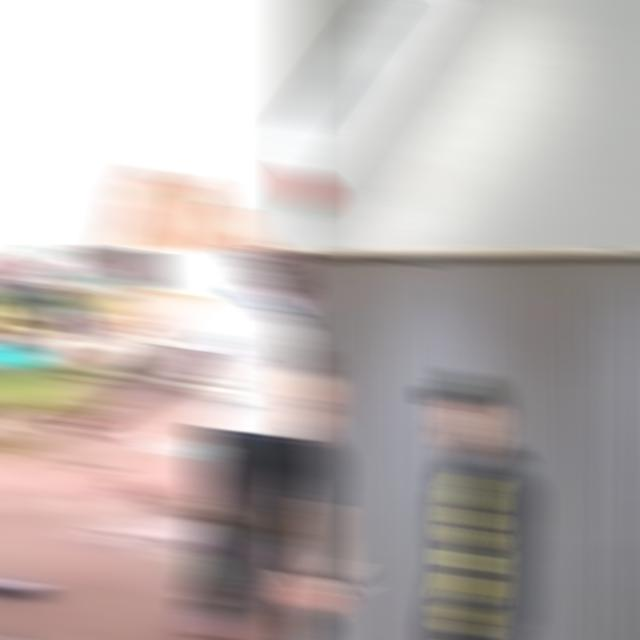Knife: (284, 0, 453, 221)
Knife_Handle: (284, 570, 363, 617)
